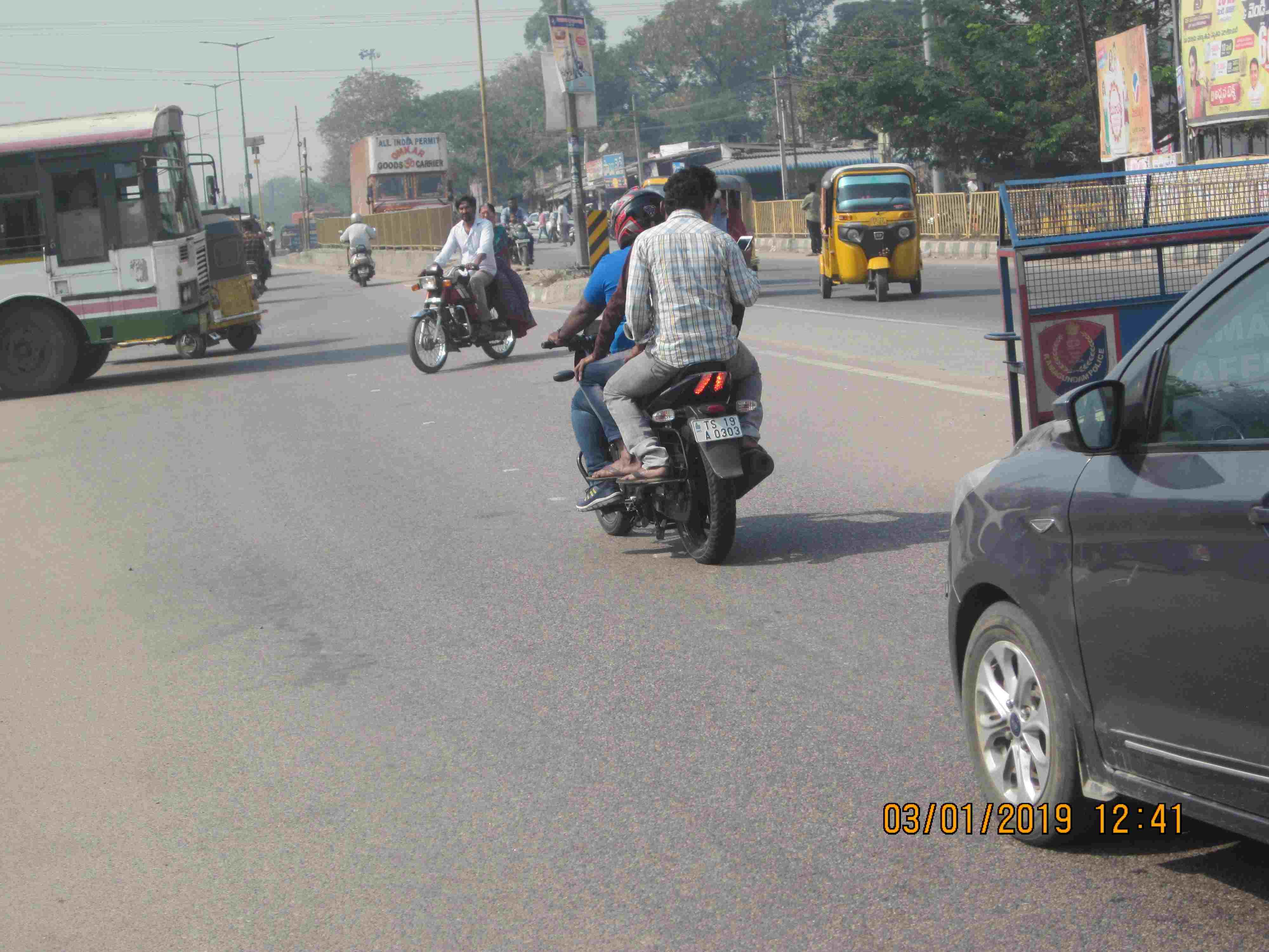with_helmet: (338, 211, 382, 288)
without_helmet: (563, 158, 788, 575), (405, 191, 537, 375), (499, 194, 539, 270), (239, 221, 274, 296)
